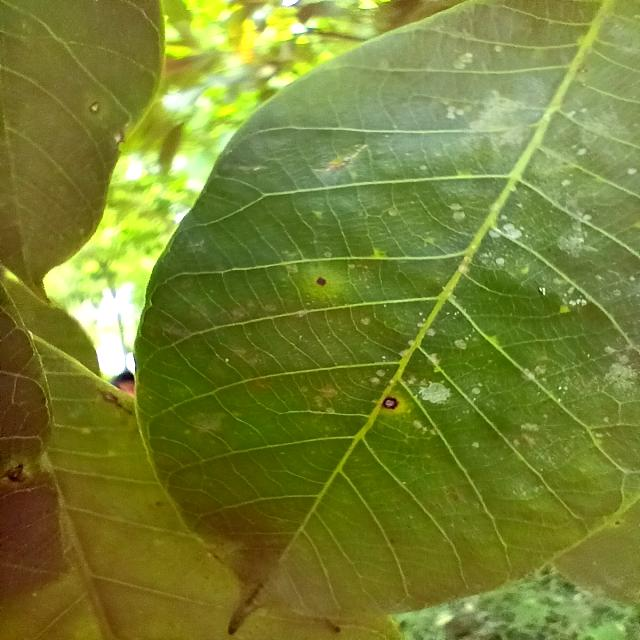Colletotrichum: (382, 396, 398, 409), (316, 278, 326, 286)
